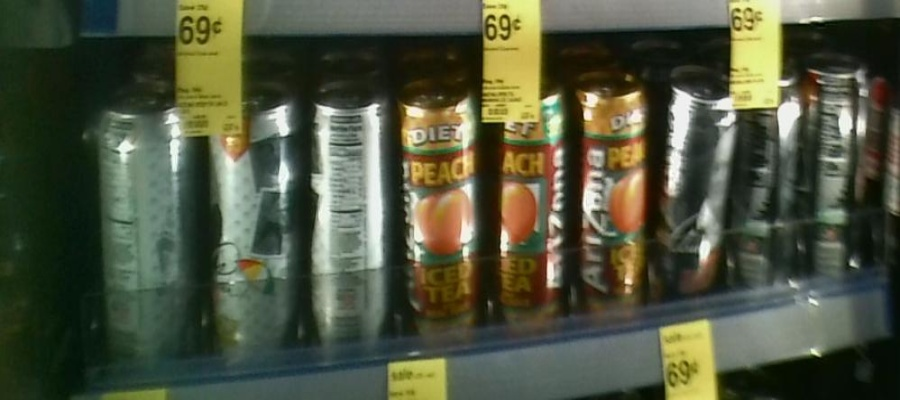bottle: (96, 74, 202, 386), (205, 65, 304, 376), (309, 67, 391, 366), (393, 72, 482, 344), (485, 70, 565, 351), (653, 56, 738, 310), (568, 57, 648, 319), (804, 40, 868, 296), (741, 55, 802, 302)
